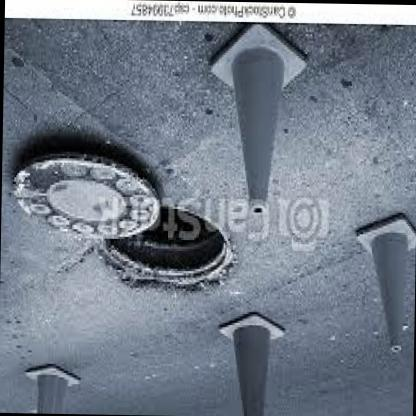manholes: (6, 110, 262, 322)
